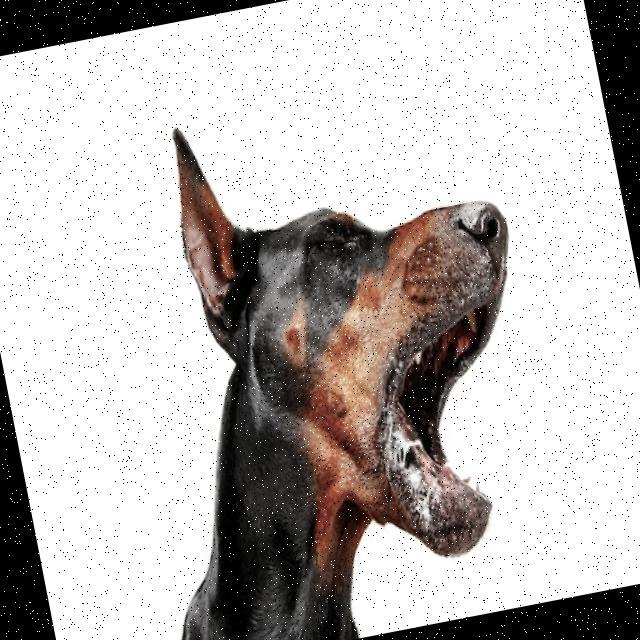Dog: (63, 66, 581, 640)
